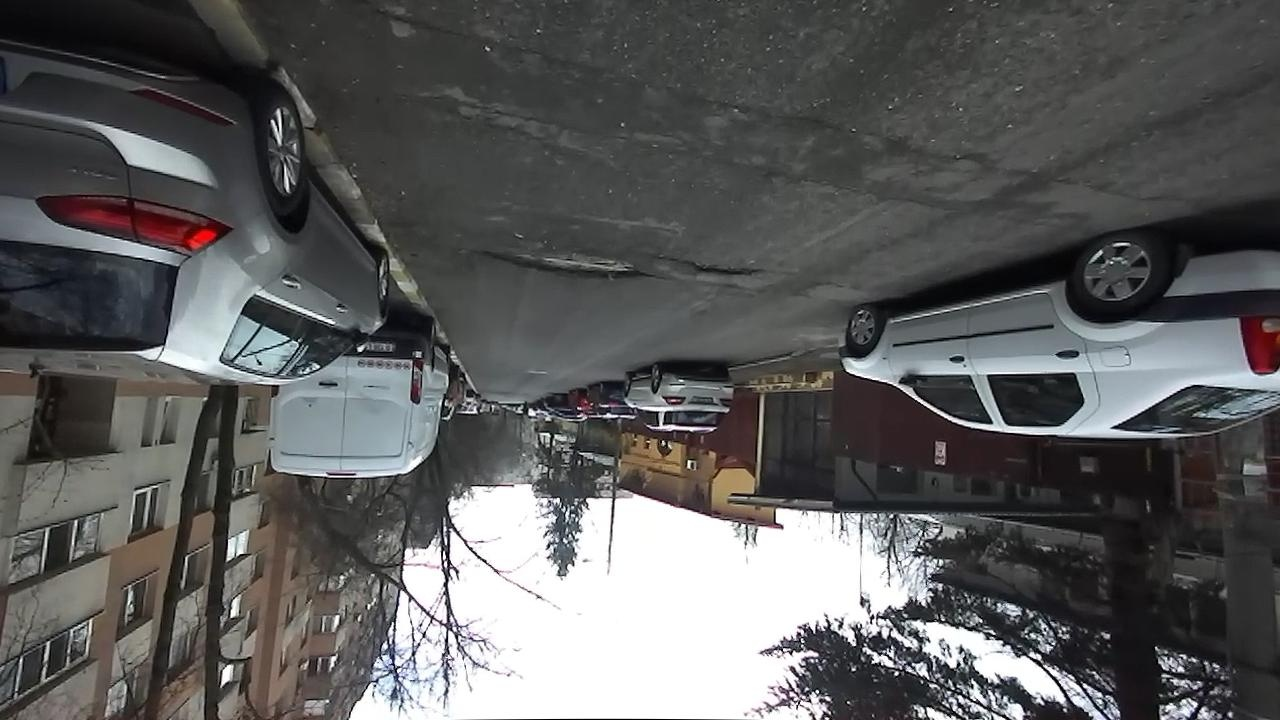pothole: (473, 241, 653, 283), (677, 255, 765, 279)
